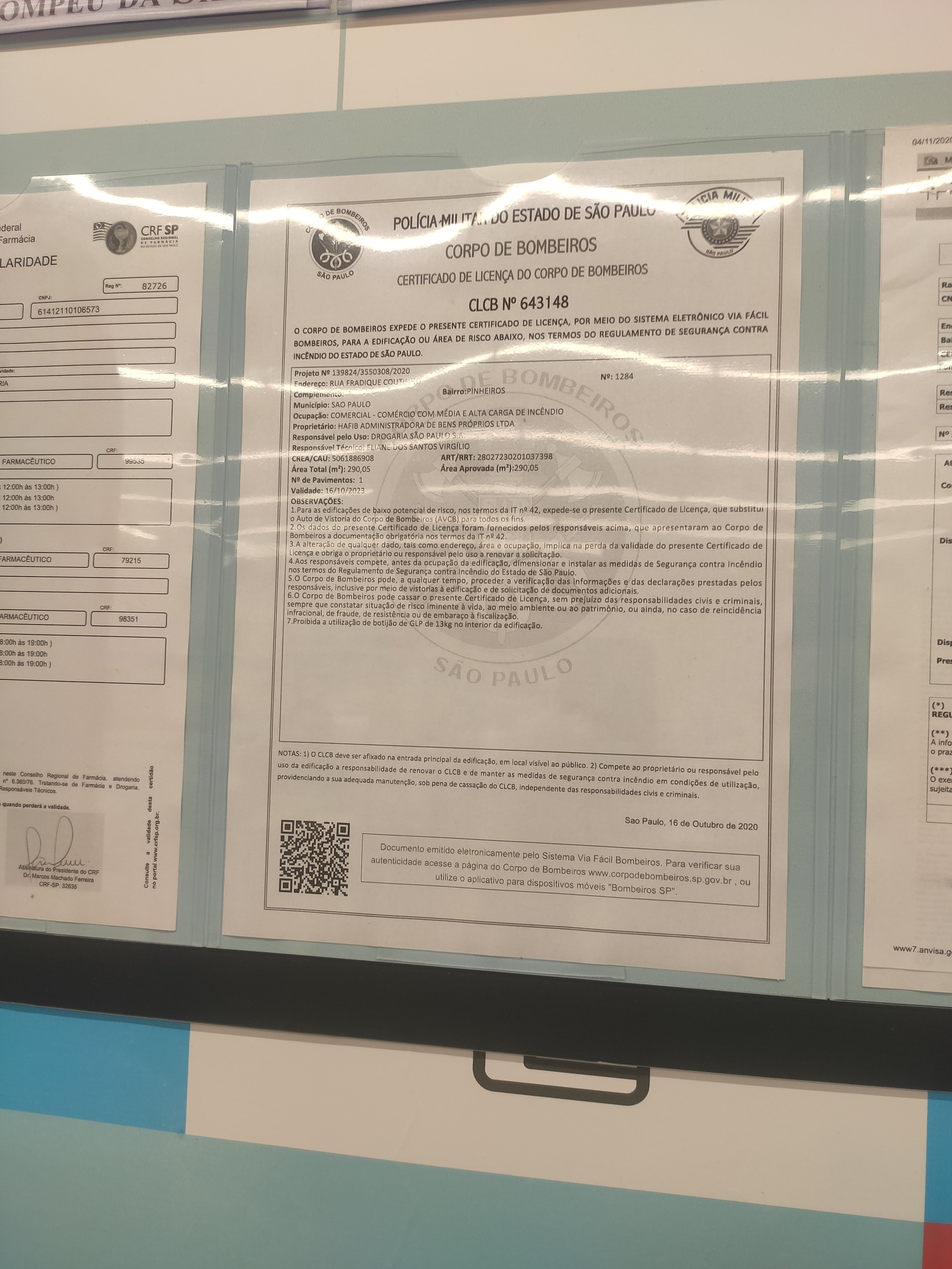QR-CODE: (278, 820, 350, 897)
